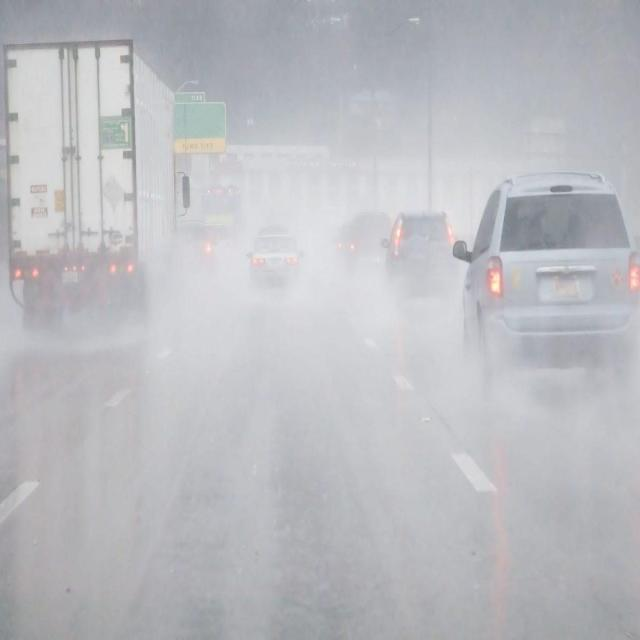Bus: (200, 180, 247, 235)
Car: (451, 173, 640, 399), (380, 212, 461, 294), (243, 233, 305, 287), (347, 208, 395, 274), (175, 218, 215, 275), (204, 218, 235, 266), (336, 234, 358, 261)
Truck: (0, 34, 191, 328)
